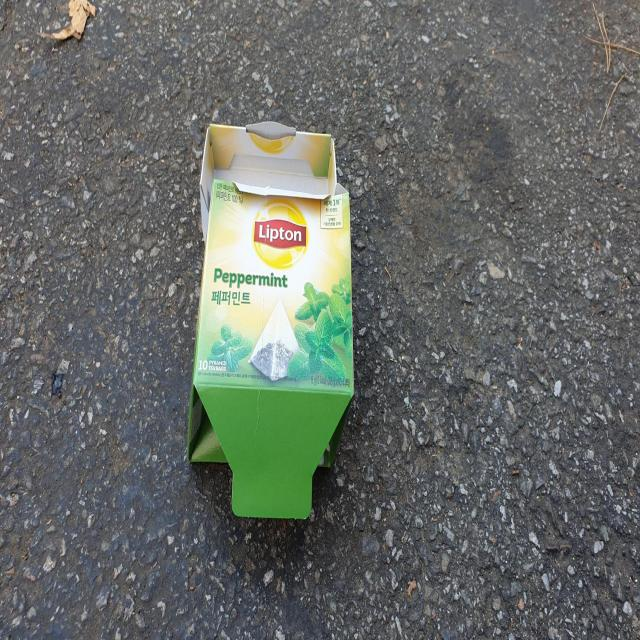paperpack: (187, 120, 354, 519)
